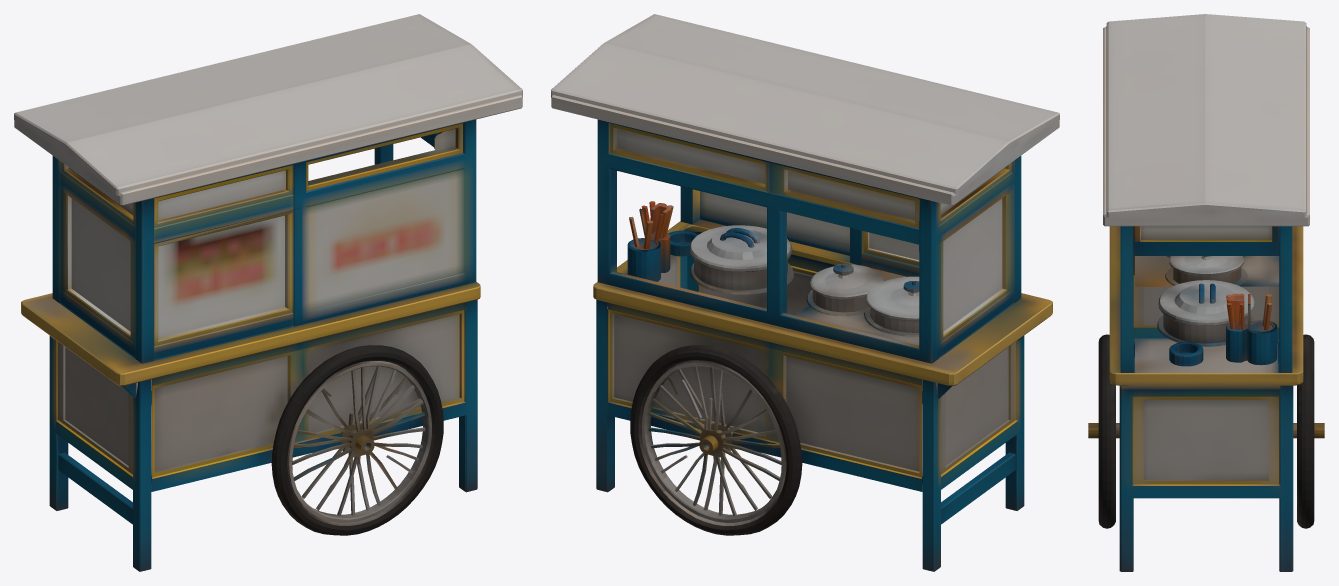
3 renders of one model, left to right at view 1: azimuth 30°, elevation 25°; view 2: azimuth 150°, elevation 25°; view 3: azimuth 270°, elevation 25°, orthographic. The views are drawn at different scales.
Visible parts, largest first — view 1: texture_pbr_v128; view 2: texture_pbr_v128; view 3: texture_pbr_v128.
Part boxes in pixels (x1,y1,x2,y2): texture_pbr_v128: [14, 14, 522, 571]; texture_pbr_v128: [551, 14, 1059, 571]; texture_pbr_v128: [1088, 14, 1324, 571].
Bounding box in the file's own units: 0.84 × 0.8115 × 0.4412.
1 material, 1 textured.
